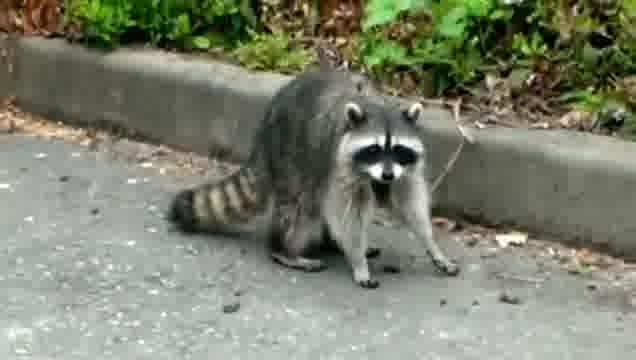raccoon: (169, 65, 458, 289)
